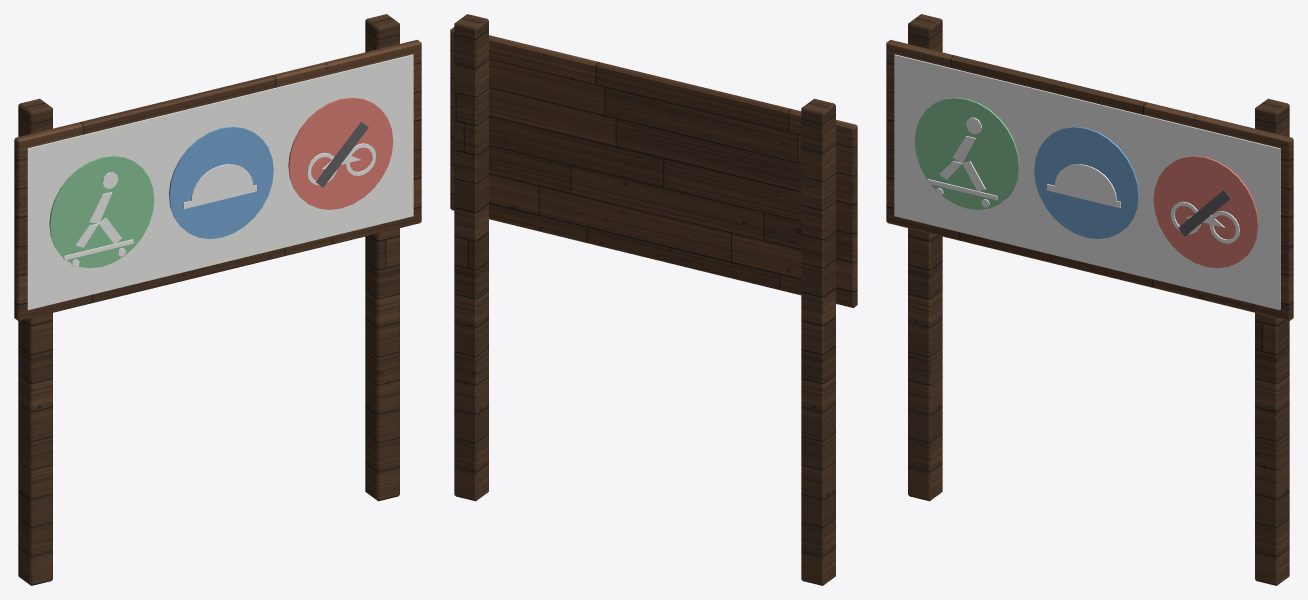
Rendered from sign_board.glb.
The picture shows the model from 3 angles, left to right: view 1: azimuth 30°, elevation 25°; view 2: azimuth 150°, elevation 25°; view 3: azimuth 330°, elevation 25°; orthographic projection.
Parts seen in each view (by area): view 1: sign_board_paint_w, sign_board_post, sign_board_dkwood, sign_board_paint_r, sign_board_paint_g, sign_board_paint_b, sign_board_dark; view 2: sign_board_dkwood, sign_board_post; view 3: sign_board_paint_w, sign_board_post, sign_board_dkwood, sign_board_paint_r, sign_board_paint_g, sign_board_paint_b, sign_board_dark.
Boxes of the visible parts, x1,y1,x2,y2 form: sign_board_paint_w: (27,54,413,310); sign_board_post: (18,14,399,585); sign_board_dkwood: (14,39,421,320); sign_board_paint_r: (288,97,393,209); sign_board_paint_g: (49,156,154,268); sign_board_paint_b: (169,126,273,238); sign_board_dark: (316,122,368,187); sign_board_dkwood: (450,27,857,307); sign_board_post: (454,14,835,585); sign_board_paint_w: (894,54,1280,310); sign_board_post: (908,14,1289,585); sign_board_dkwood: (886,39,1293,320); sign_board_paint_r: (1153,156,1258,268); sign_board_paint_g: (914,97,1019,209); sign_board_paint_b: (1034,126,1138,238); sign_board_dark: (1178,189,1230,236).
Bounding box in the file's own units: 2.1 × 2.35 × 0.186.
7 materials, 2 textured.
